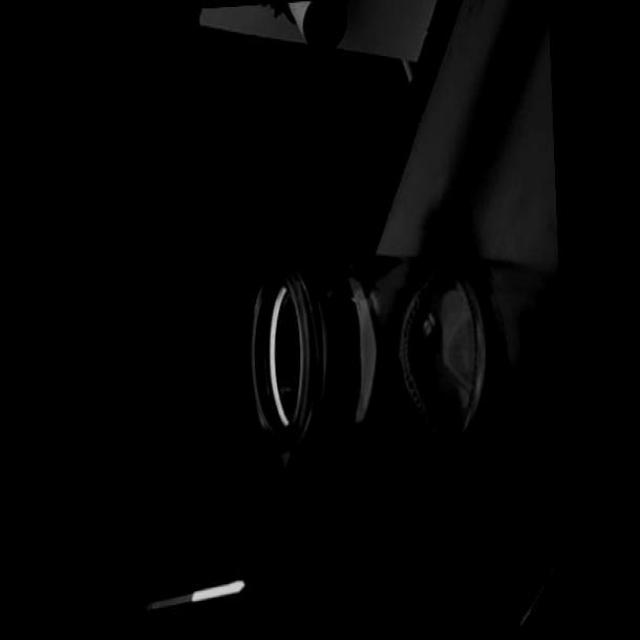defect: (347, 292, 362, 313)
glass: (234, 218, 506, 496)
